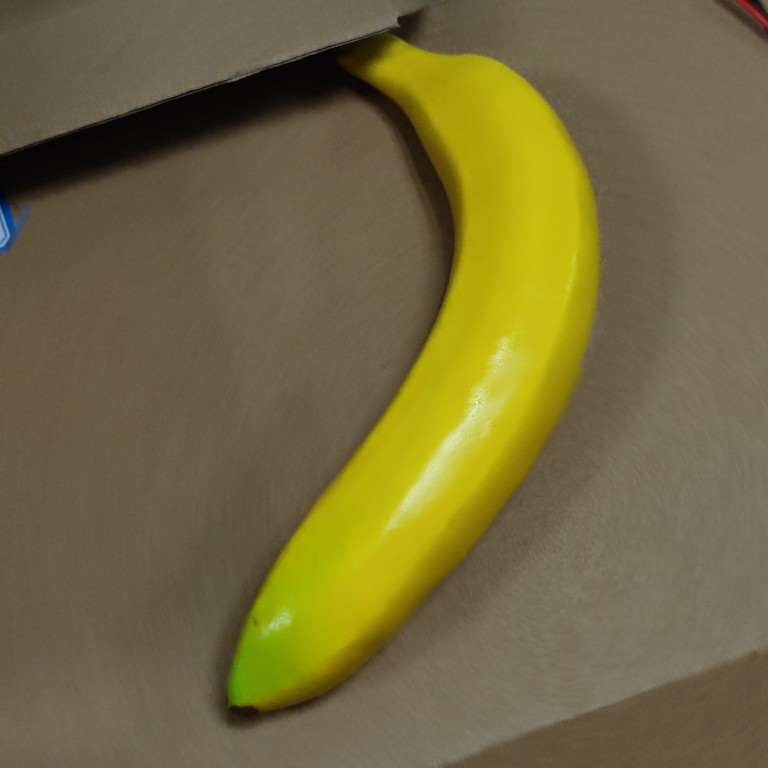fruit_banana: (221, 26, 604, 726)
